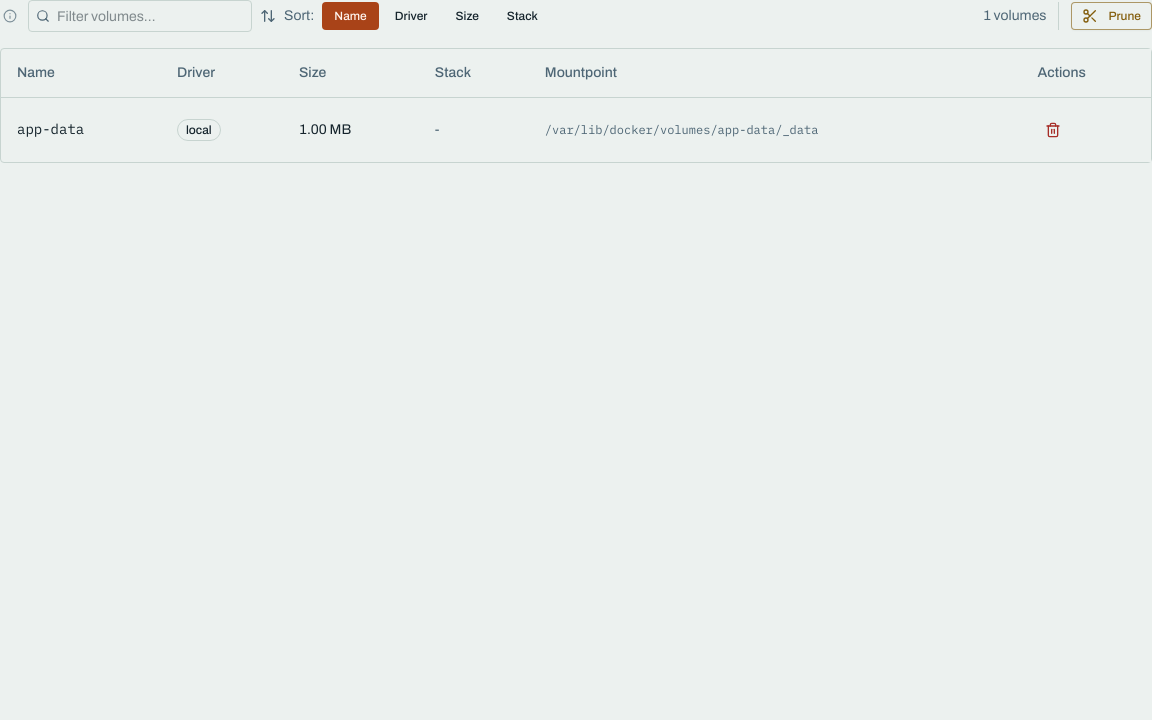
VolumesTab — deleting › deletes nothing when the confirmation is dismissed
This screenshot has width=1152, height=720.
Click the button named "Remove volume app-data" at (1054,130), box [1038, 114, 1070, 146]
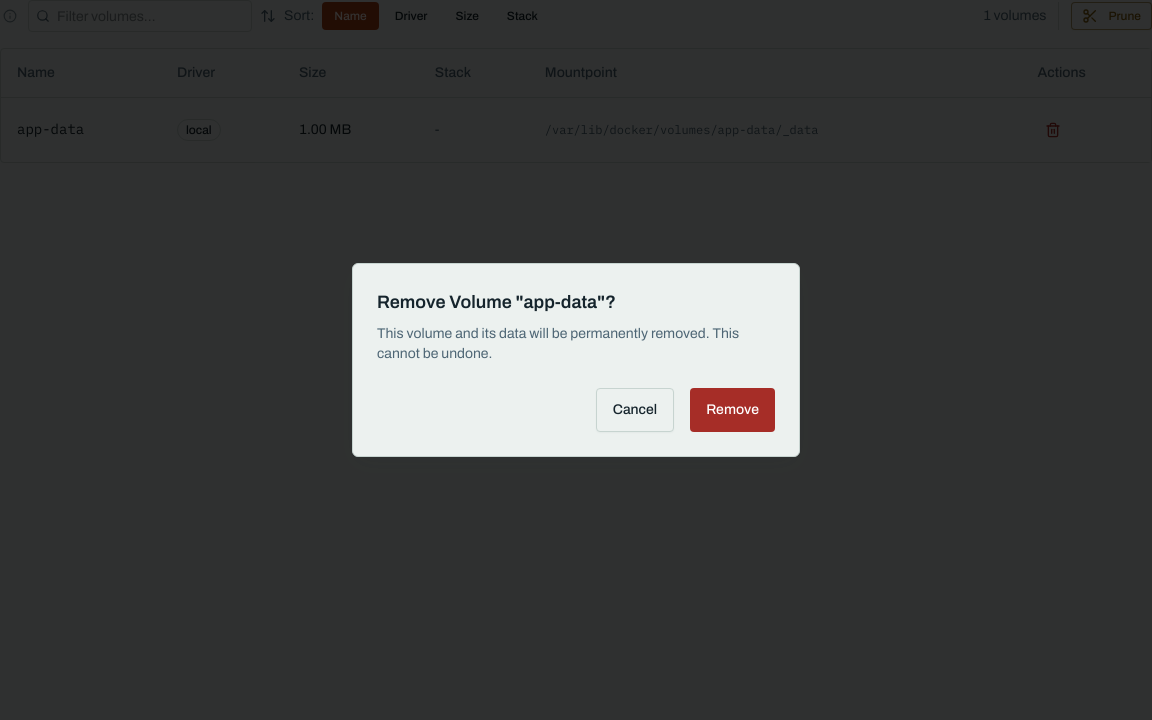
Click the button "Cancel" at (635,410), box [596, 388, 674, 432]
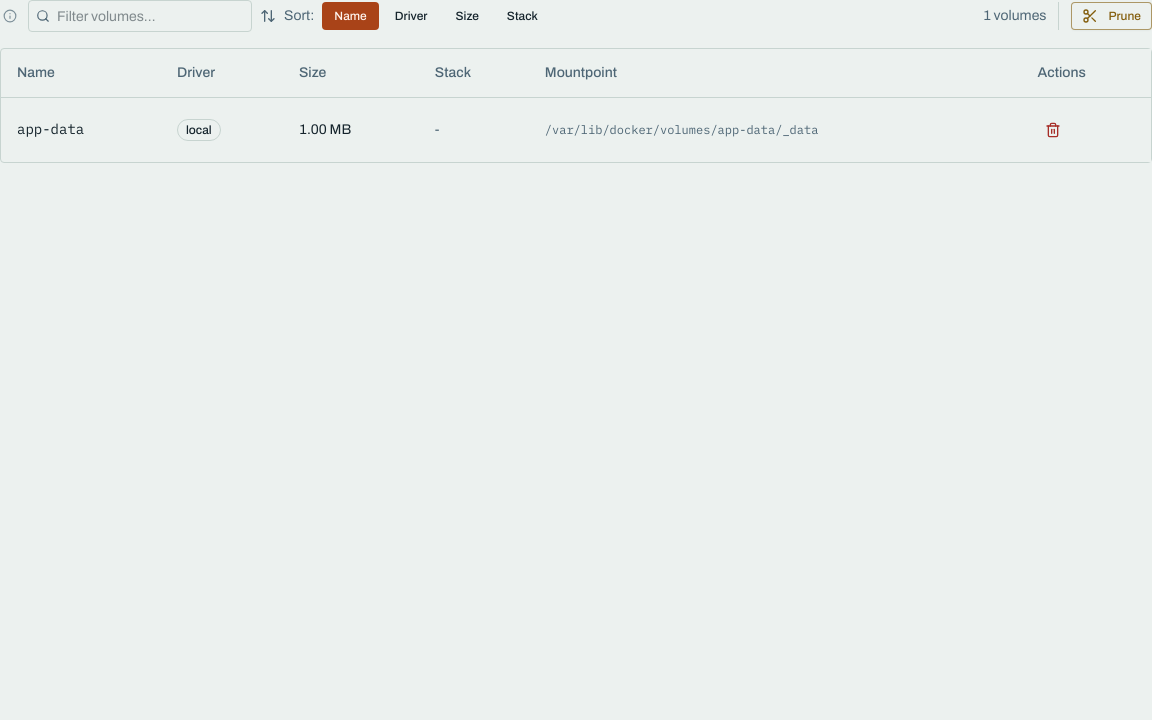
Now the heading "Remove Volume" is gone
